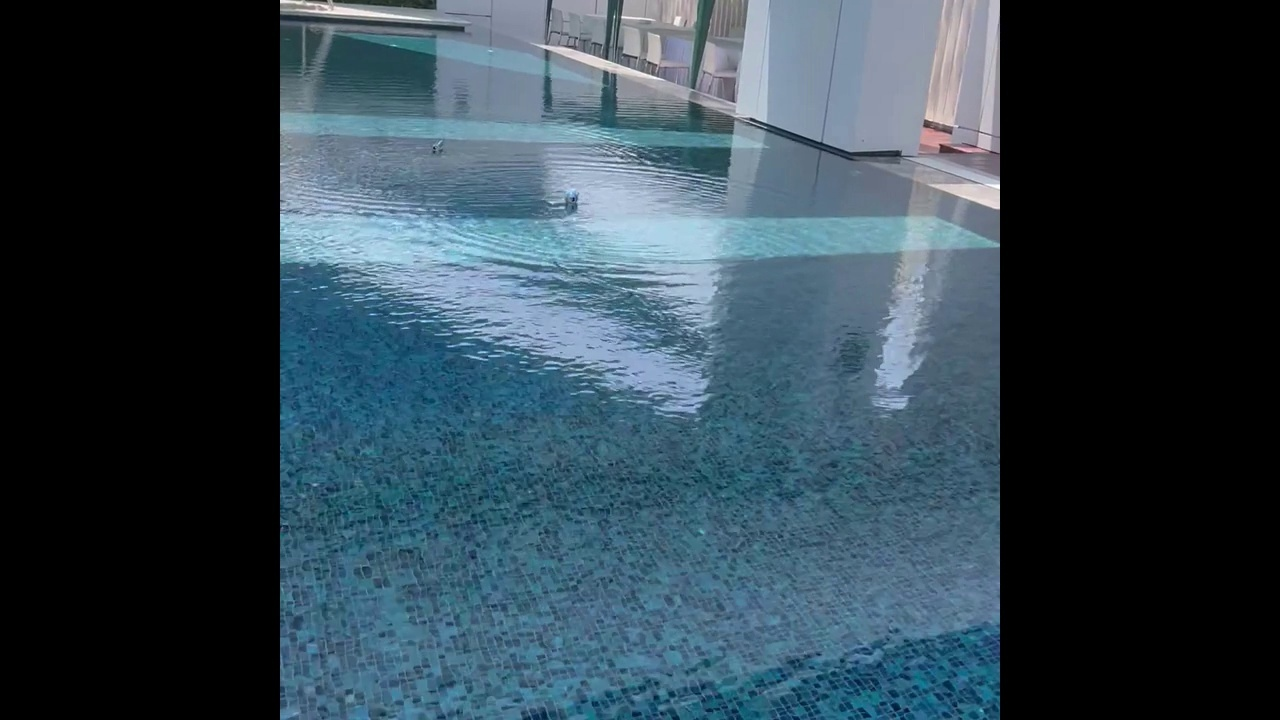debris: (428, 137, 448, 156), (562, 188, 579, 209)
